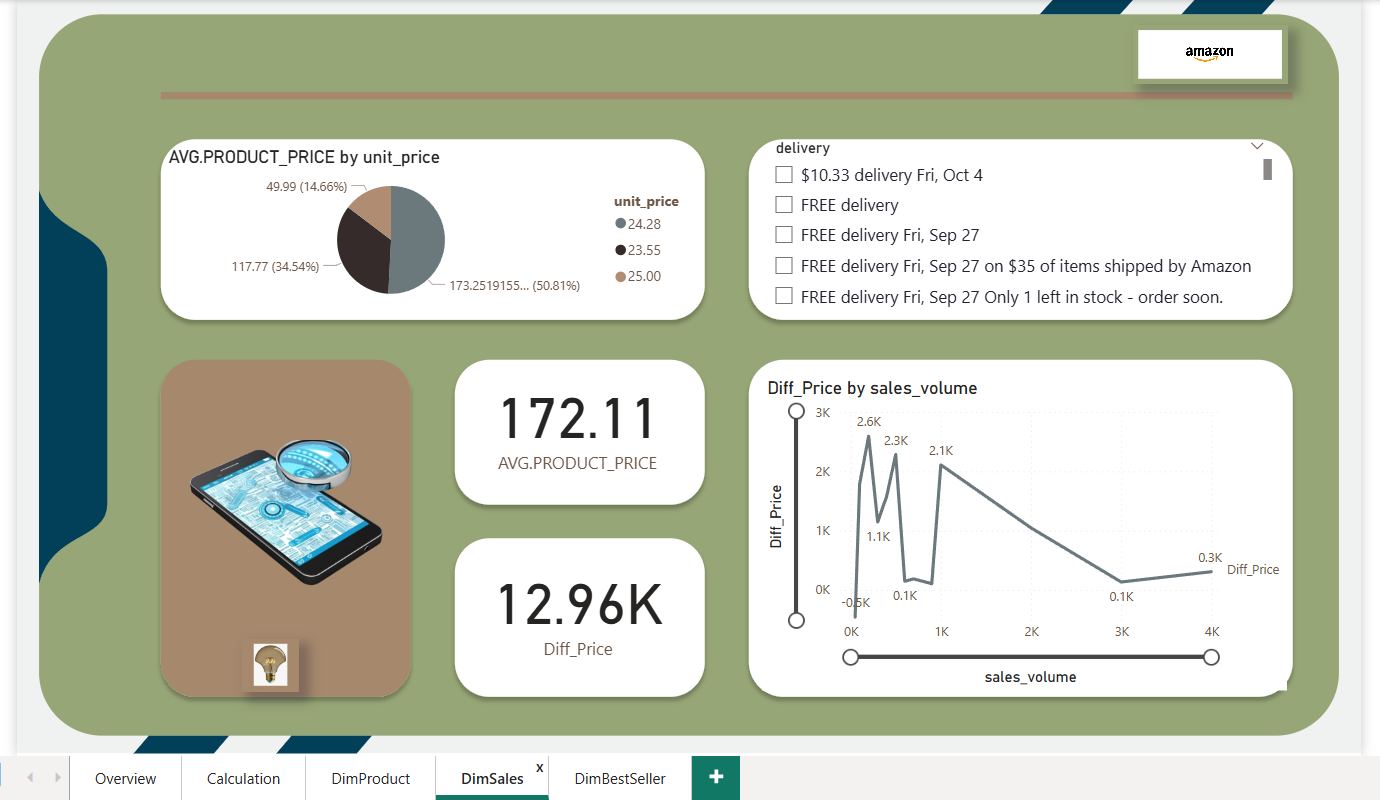

Layout of this report page (visuals, bound fields, positions):
{"tool":"powerbi","page":{"name":"DimSales","canvas":[1280,720],"ordinal":3},"visuals":[{"type":"pieChart","fields":{"Y":["Phone search.AVG.PRODUCT_PRICE"],"Category":["DimSales.unit_price"]},"box":[139.3,139.3,514.3,159.5],"z":0},{"type":"card","fields":{"Values":["Phone search.Diff_Price"]},"box":[415.5,519.1,238.1,120.2],"z":1000},{"type":"card","fields":{"Values":["Phone search.AVG.PRODUCT_PRICE"]},"box":[408.3,342.9,251.2,117.9],"z":2000},{"type":"slicer","fields":{"Values":["Phone search.delivery"]},"box":[709.5,127.4,490.5,171.4],"z":4000},{"type":"image","box":[1063.5,23.3,146.8,56.3],"z":5000},{"type":"image","box":[134.5,414.4,241.5,150.9],"z":6000},{"type":"image","box":[214.3,608.3,54.8,50],"z":7000},{"type":"lineChart","fields":{"Category":["DimSales.sales_volume"],"Y":["Phone search.Diff_Price"]},"box":[709.5,359.5,500,297.6],"z":7001}]}

Visuals, with their boxes on the page's 1280x720 design canvas (x1, y1, x2, y2). These are canvas units, not pixel positions in the 1380x800 screenshot, which may show the page scaled, cropped or inside an application window:
pieChart - Phone search.AVG.PRODUCT_PRICE x DimSales.unit_price: 139, 139, 654, 299
card - Phone search.Diff_Price: 416, 519, 654, 639
card - Phone search.AVG.PRODUCT_PRICE: 408, 343, 660, 461
slicer - Phone search.delivery: 710, 127, 1200, 299
image: 1064, 23, 1210, 80
image: 134, 414, 376, 565
image: 214, 608, 269, 658
lineChart - DimSales.sales_volume x Phone search.Diff_Price: 710, 360, 1210, 657
